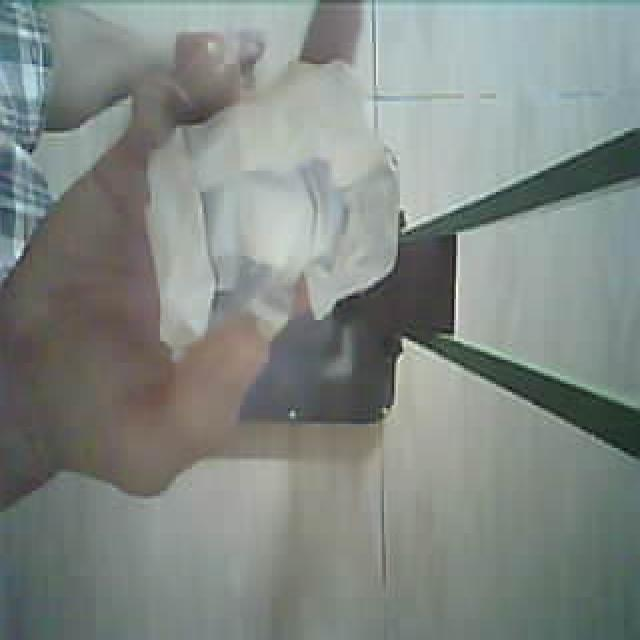Paper: (64, 42, 423, 420)
